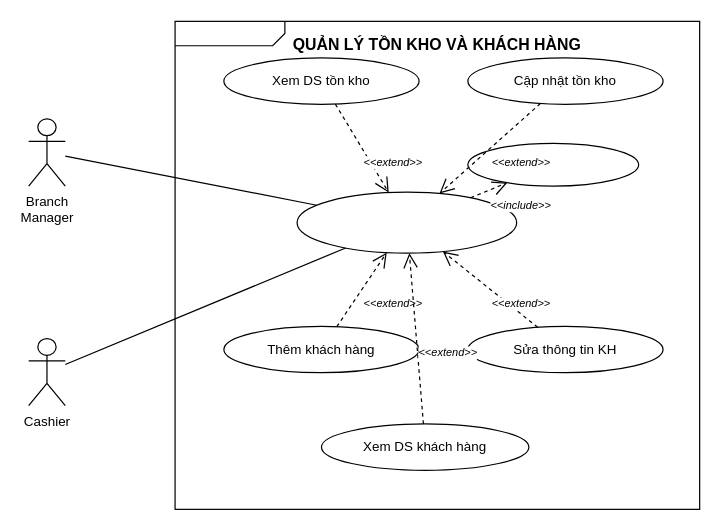
Image size: 721x531. Some labels were removed from this diagram. Here are the shapes that lost their labels. From the top down, the box of each, then its label:
(467, 142, 639, 186): Đăng nhập
(296, 191, 517, 253): QL Tồn kho & KH (from Model)
